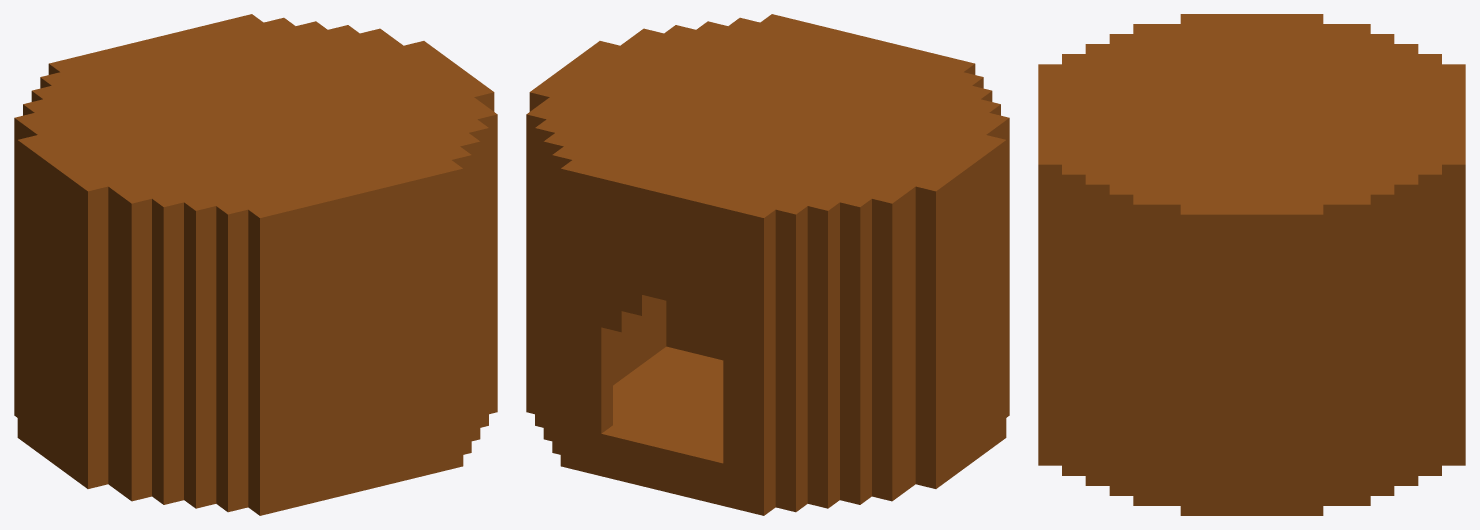
File: casaGato.obj
3 views of the same model, side by side, from view 1: azimuth 30°, elevation 25°; view 2: azimuth 150°, elevation 25°; view 3: azimuth 270°, elevation 25° (orthographic).
Parts seen in each view (by area): view 1: Model; view 2: Model; view 3: Model.
Boxes of the visible parts, x1,y1,x2,y2 form: Model: (14,14,497,515); Model: (526,14,1009,515); Model: (1038,14,1465,515).
Size of the model in its own units: 32 by 22.4 by 28.8.
1 material, 1 textured.
